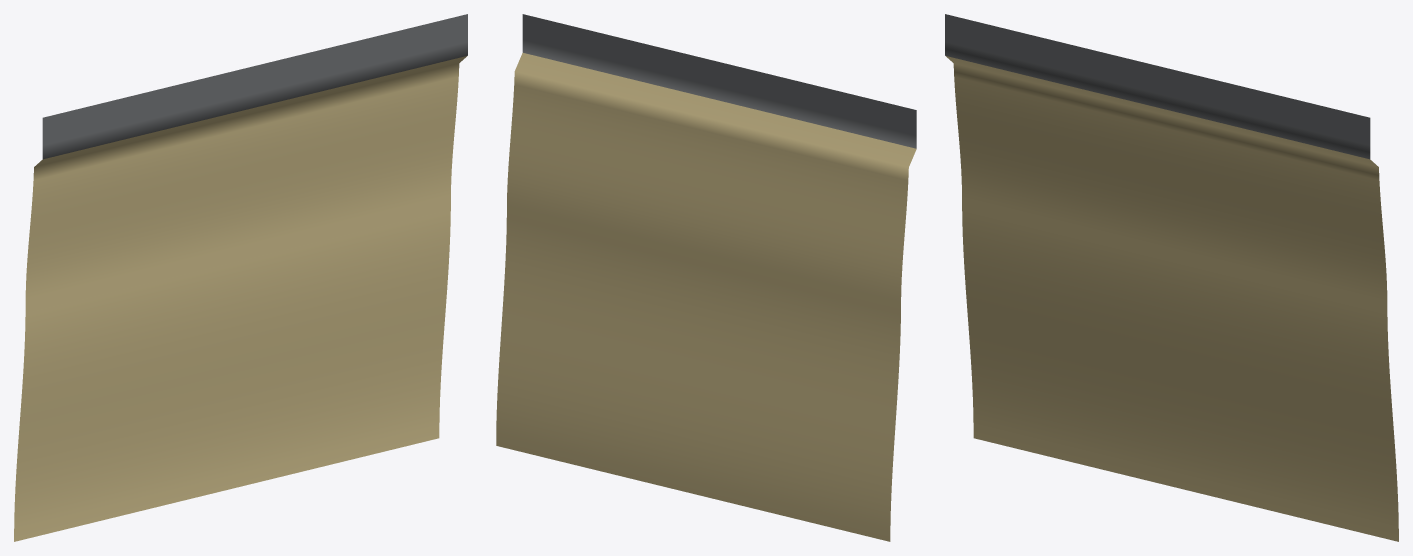
File: island_terrain_03_00.obj
3 views of the same model, side by side, from view 1: azimuth 30°, elevation 25°; view 2: azimuth 150°, elevation 25°; view 3: azimuth 330°, elevation 25° (orthographic). The views are drawn at different scales.
Parts seen in each view (by area): view 1: island_terrain_03_00; view 2: island_terrain_03_00; view 3: island_terrain_03_00.
Boxes of the visible parts, left/top/right/bottom form: island_terrain_03_00: left=14, top=14, right=467, bottom=541; island_terrain_03_00: left=496, top=14, right=916, bottom=541; island_terrain_03_00: left=945, top=14, right=1398, bottom=541.
Size of the model in its own units: 256 by 256 by 29.7.
